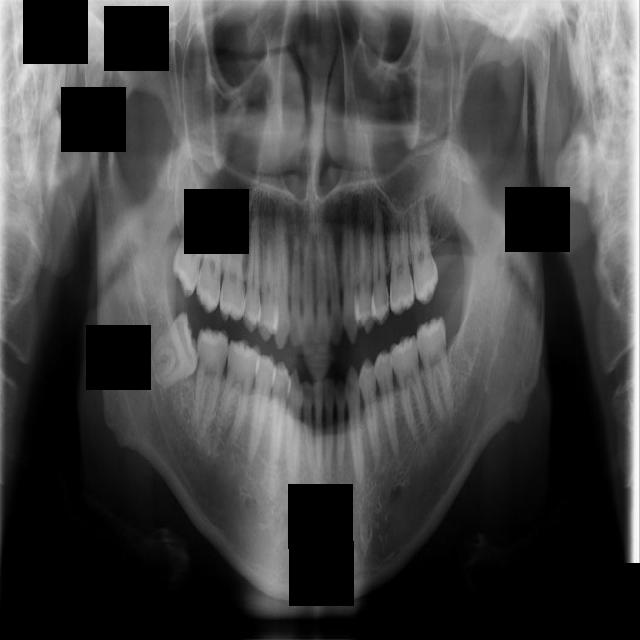3M ESPE Implant: (168, 177, 214, 299)
73: (588, 560, 592, 566)
BioHorizons Implant: (403, 182, 441, 306)
Blue Sky Bio Implant: (414, 315, 455, 421)
Caries: (195, 191, 228, 315)
Implant: (182, 325, 232, 447)
Keystone Dental Implant: (136, 311, 211, 391)
